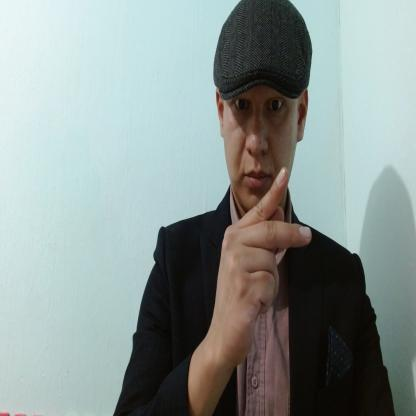P: (212, 165, 312, 361)
